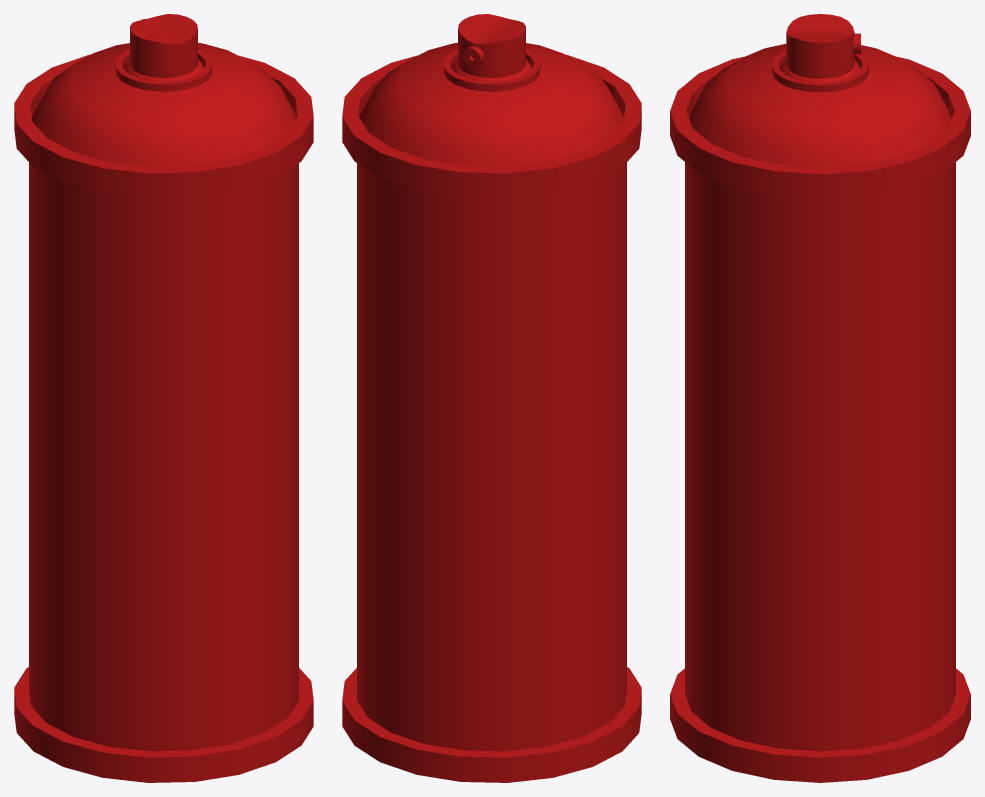
The model's file is SprayCan.fbx.
3 renders of one model, left to right at view 1: azimuth 30°, elevation 25°; view 2: azimuth 150°, elevation 25°; view 3: azimuth 270°, elevation 25°, orthographic.
Parts seen in each view (by area): view 1: SprayCan; view 2: SprayCan; view 3: SprayCan.
Boxes of the visible parts, x1,y1,x2,y2 form: SprayCan: (14, 14, 313, 782); SprayCan: (342, 14, 641, 782); SprayCan: (670, 14, 970, 782).
Size of the model in its own units: 28.92 by 73.33 by 28.92.
